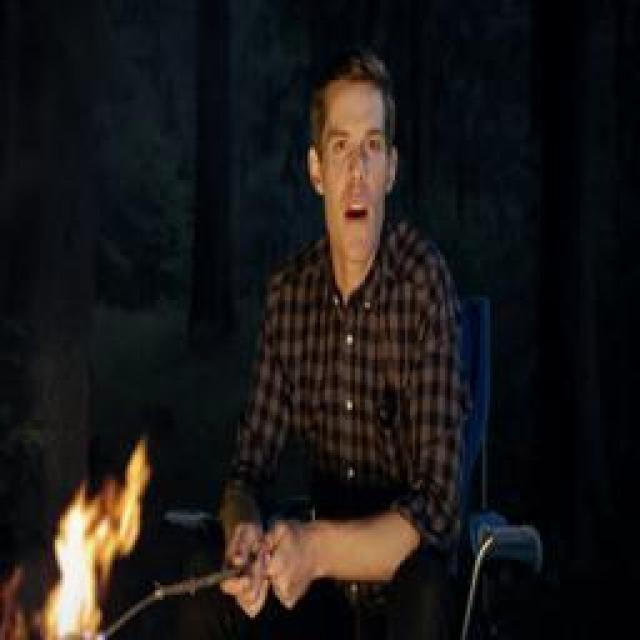Fire: (44, 442, 148, 640)
